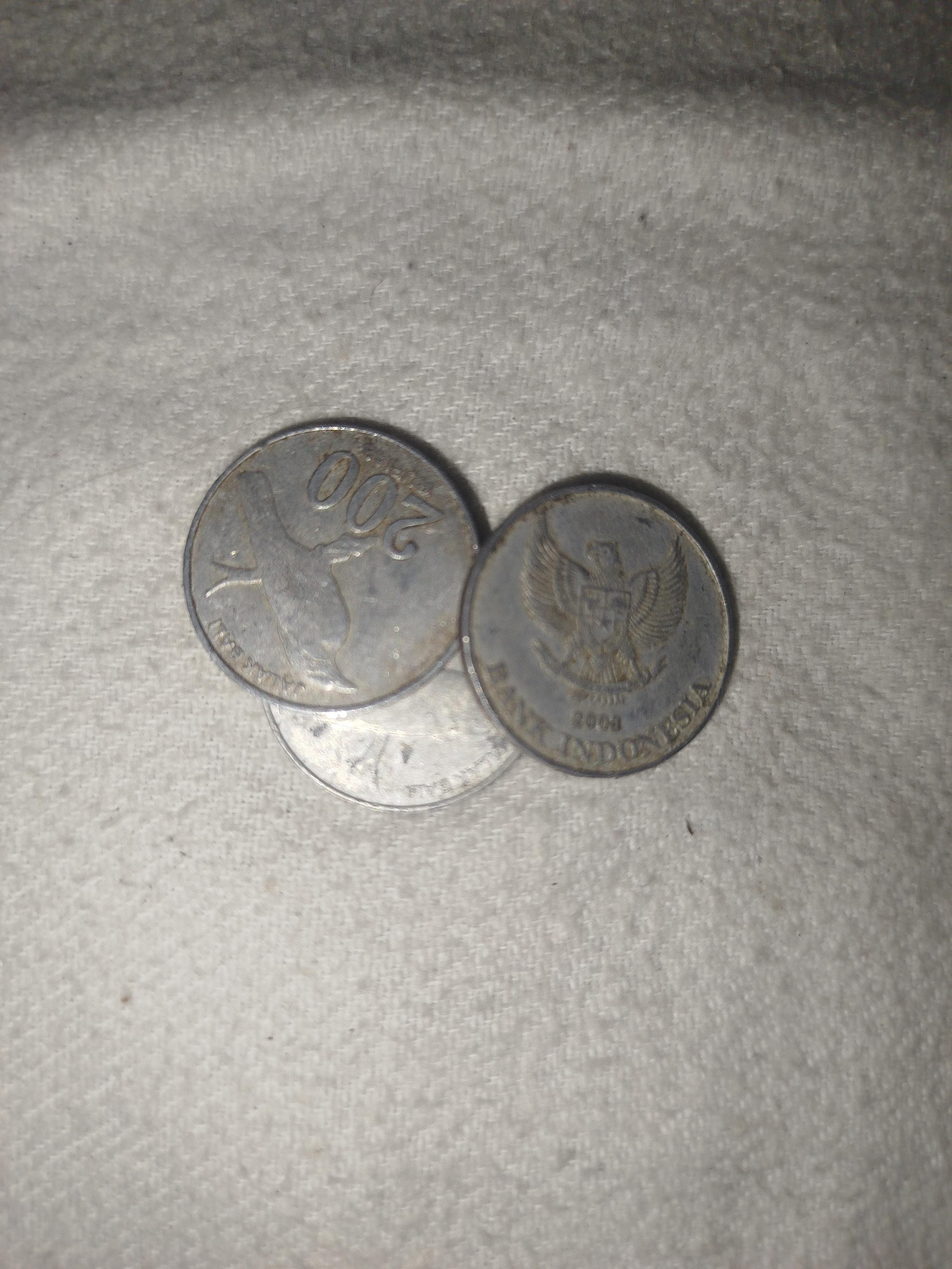coin_200_e2003: (182, 417, 476, 712), (462, 473, 740, 784), (269, 653, 535, 814)
